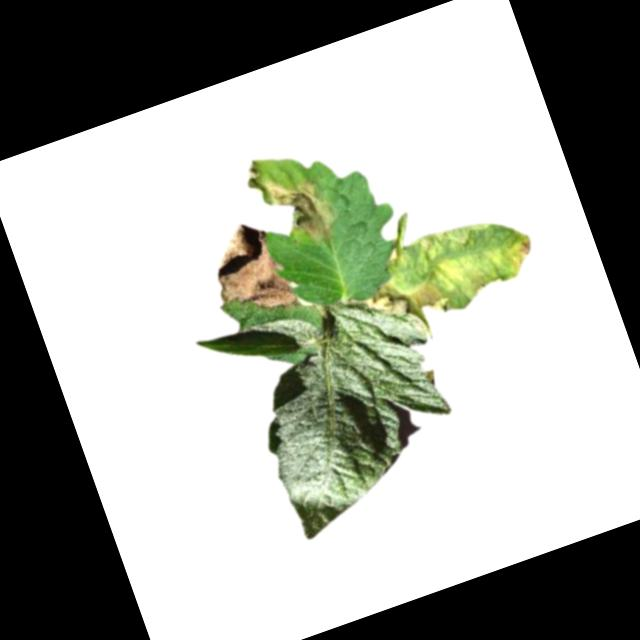Late_blight: (238, 137, 347, 260), (200, 213, 303, 330), (363, 265, 450, 336), (503, 232, 542, 277)
healthy: (230, 279, 476, 543)
